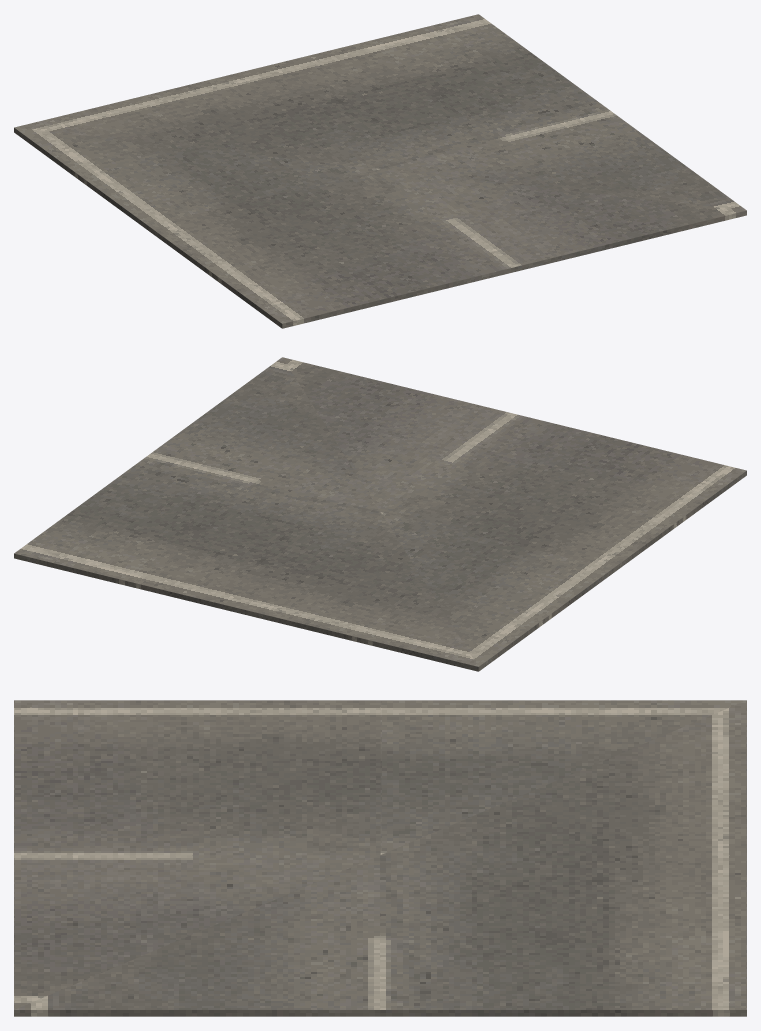
File: road_4_corner_no_sides.glb
3 renders of one model, top to bottom at view 1: azimuth 30°, elevation 25°; view 2: azimuth 150°, elevation 25°; view 3: azimuth 270°, elevation 25°, orthographic. The views are drawn at different scales.
Parts seen in each view (by area): view 1: road_4_corner_no_sides; view 2: road_4_corner_no_sides; view 3: road_4_corner_no_sides.
Part boxes in pixels (x1,y1,x2,y2): road_4_corner_no_sides: (14, 14, 746, 328); road_4_corner_no_sides: (14, 357, 746, 671); road_4_corner_no_sides: (14, 700, 746, 1016).
Size of the model in its own units: 16 by 0.16 by 16.
Materials: 1 (1 with a texture image).
